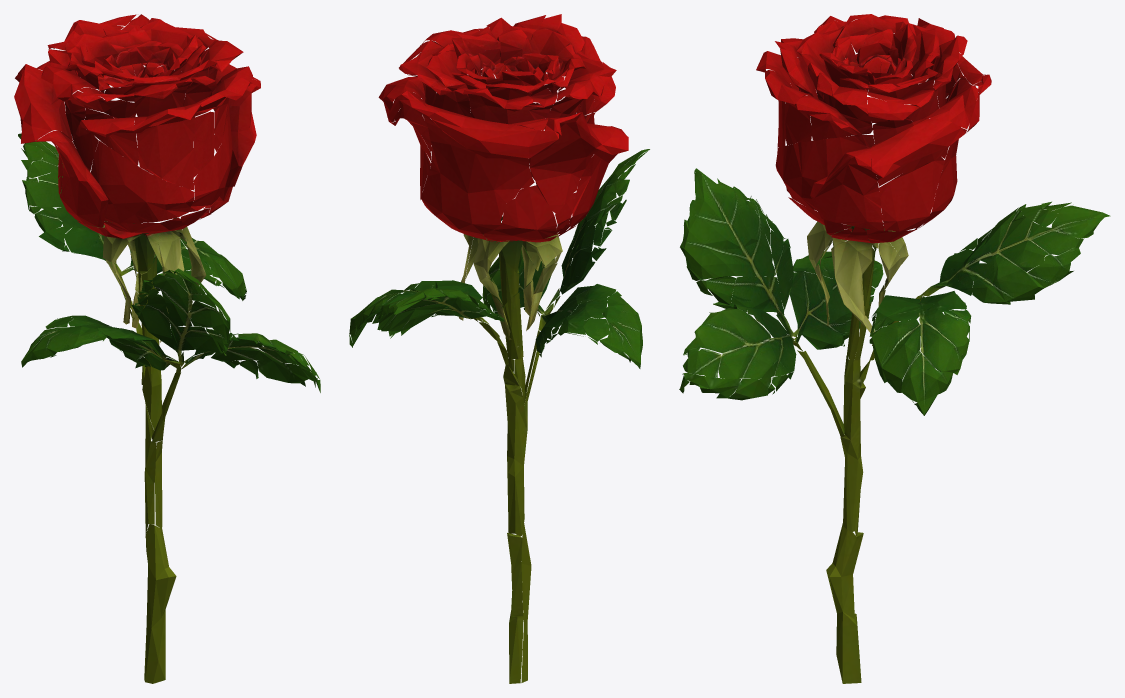
The model's file is flor_07_rosa.glb.
3 renders of one model, left to right at view 1: azimuth 30°, elevation 25°; view 2: azimuth 150°, elevation 25°; view 3: azimuth 270°, elevation 25°, orthographic.
Parts seen in each view (by area): view 1: tripo_node_dc616c69-0b18-478d-82d7-097587ece140; view 2: tripo_node_dc616c69-0b18-478d-82d7-097587ece140; view 3: tripo_node_dc616c69-0b18-478d-82d7-097587ece140.
Boxes of the visible parts, x1=… form: tripo_node_dc616c69-0b18-478d-82d7-097587ece140: x1=14, y1=14, x2=320, y2=683; tripo_node_dc616c69-0b18-478d-82d7-097587ece140: x1=349, y1=14, x2=649, y2=683; tripo_node_dc616c69-0b18-478d-82d7-097587ece140: x1=679, y1=14, x2=1110, y2=683.
Size of the model in its own units: 0.425 by 1 by 0.6135.
Materials: 1 (1 with a texture image).
